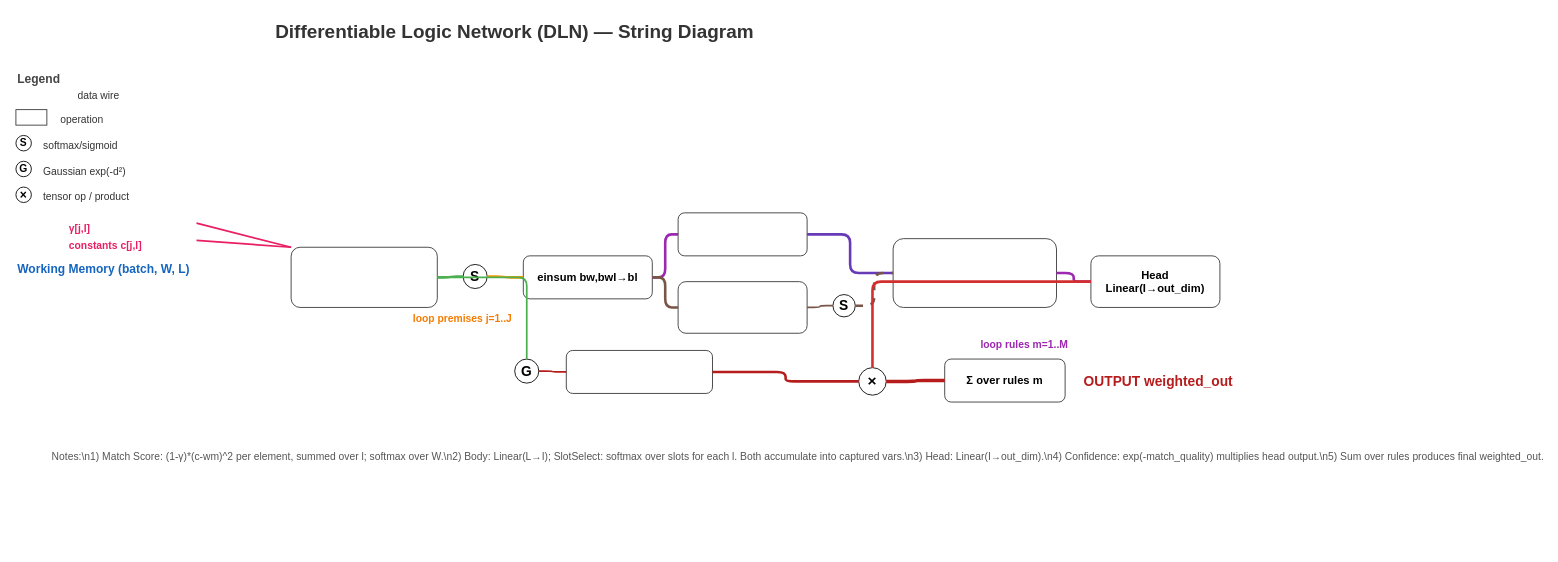
Some shapes in this 1558 by 562 pixel diagram are drawn without their labels. Each missing label, with the box of its shape:
Body[j]\nLinear(L→I): (677, 212, 807, 256)
Captured Vars\n(sum γ_avg·body + slot mix): (892, 238, 1057, 307)
Confidence exp(-match): (565, 350, 713, 393)
Match Score\n(Σ(1-γ)*(c-wm)²): (290, 246, 437, 307)
SlotSelect[j]\nsoftmax over slots: (677, 281, 807, 333)
